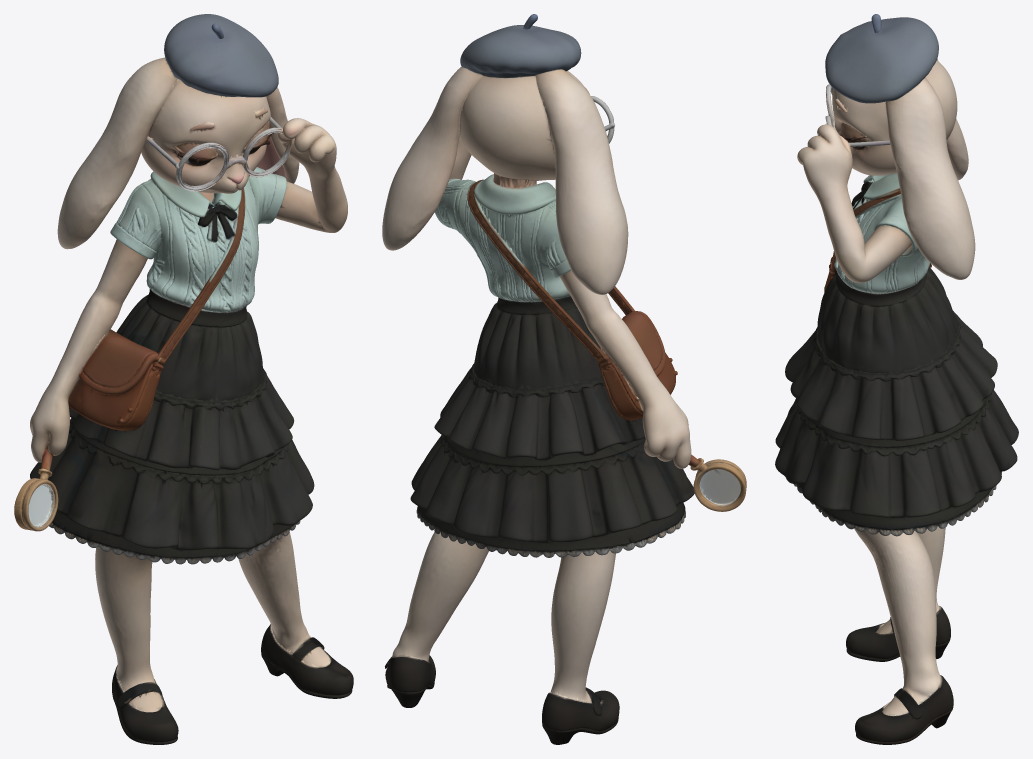
The model's file is 原皮兔.glb.
3 views of the same model, side by side, from view 1: azimuth 30°, elevation 25°; view 2: azimuth 150°, elevation 25°; view 3: azimuth 270°, elevation 25° (orthographic). The views are drawn at different scales.
Visible parts, largest first — view 1: tripo_node_62a8d904-490f-45da-b760-5e18e01aa6ca; view 2: tripo_node_62a8d904-490f-45da-b760-5e18e01aa6ca; view 3: tripo_node_62a8d904-490f-45da-b760-5e18e01aa6ca.
Part boxes in pixels (box(x1,y1,x2,y2)): tripo_node_62a8d904-490f-45da-b760-5e18e01aa6ca: box(14, 14, 353, 744); tripo_node_62a8d904-490f-45da-b760-5e18e01aa6ca: box(382, 14, 746, 744); tripo_node_62a8d904-490f-45da-b760-5e18e01aa6ca: box(775, 14, 1018, 744).
Size of the model in its own units: 0.5053 by 0.9789 by 0.3234.
Materials: 1 (1 with a texture image).
